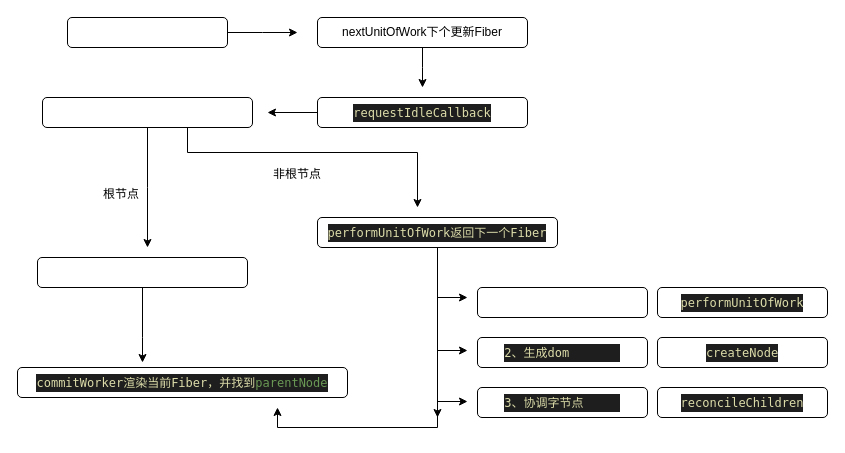
Image size: 845x453. Some labels were removed from this diagram. The shapes that lost their labels are listed below. From the top down, each one's centre as x and y in pixels, then its label:
At [147,32]: "render方法构建根Fiber".
At [147,112]: "workloop渲染更新Fiber并返回下一个".
At [142,272]: "commitRoot".
At [562,302]: "1、根据type生成dom".
